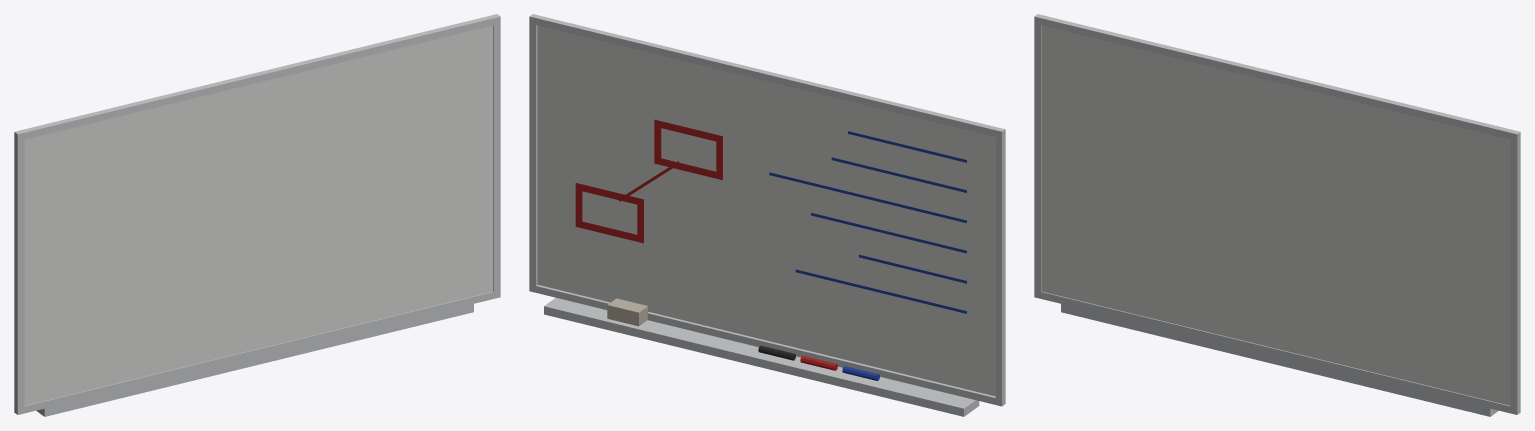
File: SM_80s_Whiteboard.glb
The picture shows the model from 3 angles, left to right: view 1: azimuth 30°, elevation 25°; view 2: azimuth 150°, elevation 25°; view 3: azimuth 330°, elevation 25°; orthographic projection. The views are drawn at different scales.
Parts seen in each view (by area): view 1: SM_80s_Whiteboard; view 2: SM_80s_Whiteboard; view 3: SM_80s_Whiteboard.
Part boxes in pixels (x1,y1,x2,y2): SM_80s_Whiteboard: [14, 14, 500, 416]; SM_80s_Whiteboard: [529, 14, 1005, 416]; SM_80s_Whiteboard: [1034, 14, 1520, 416].
Bounding box in the file's own units: 2.38 × 1.36 × 0.132.
